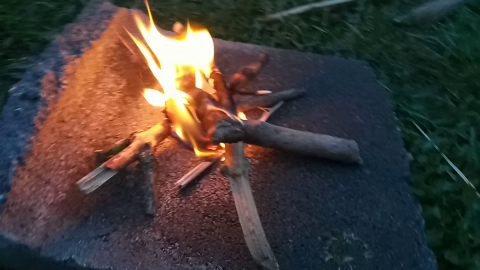fire: (118, 1, 224, 151)
